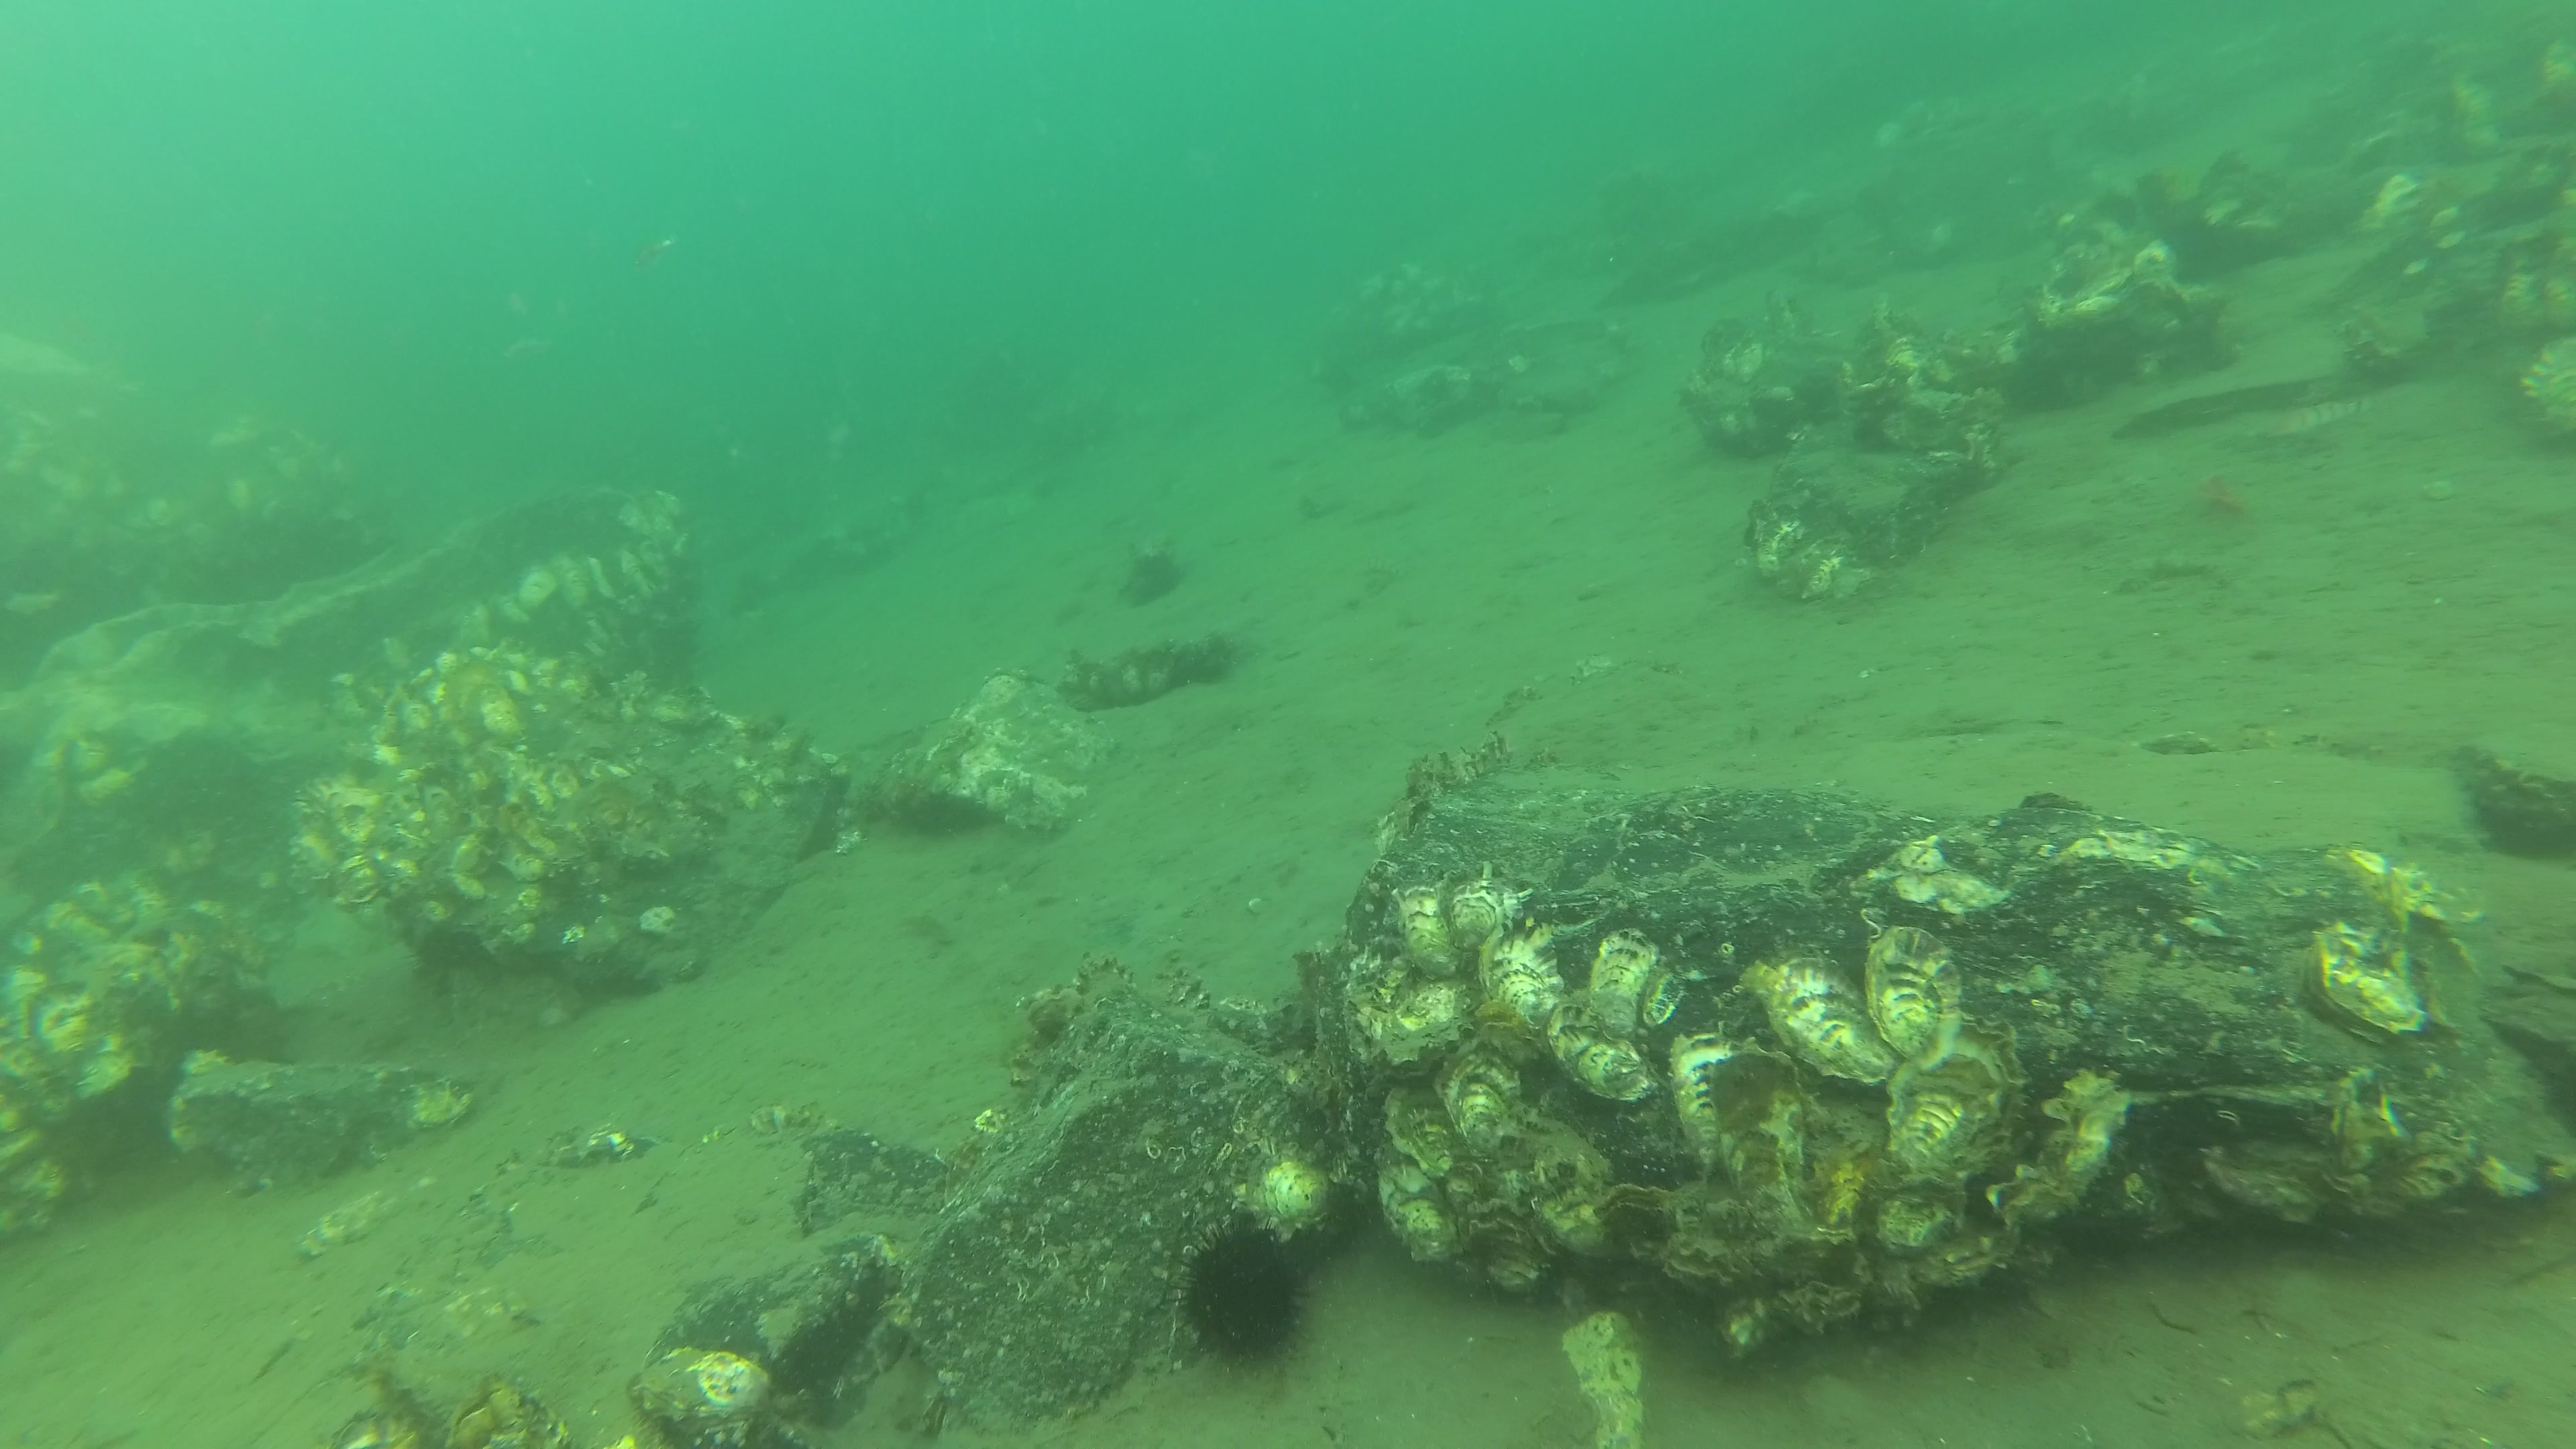echinus: (1173, 1210, 1316, 1378)
